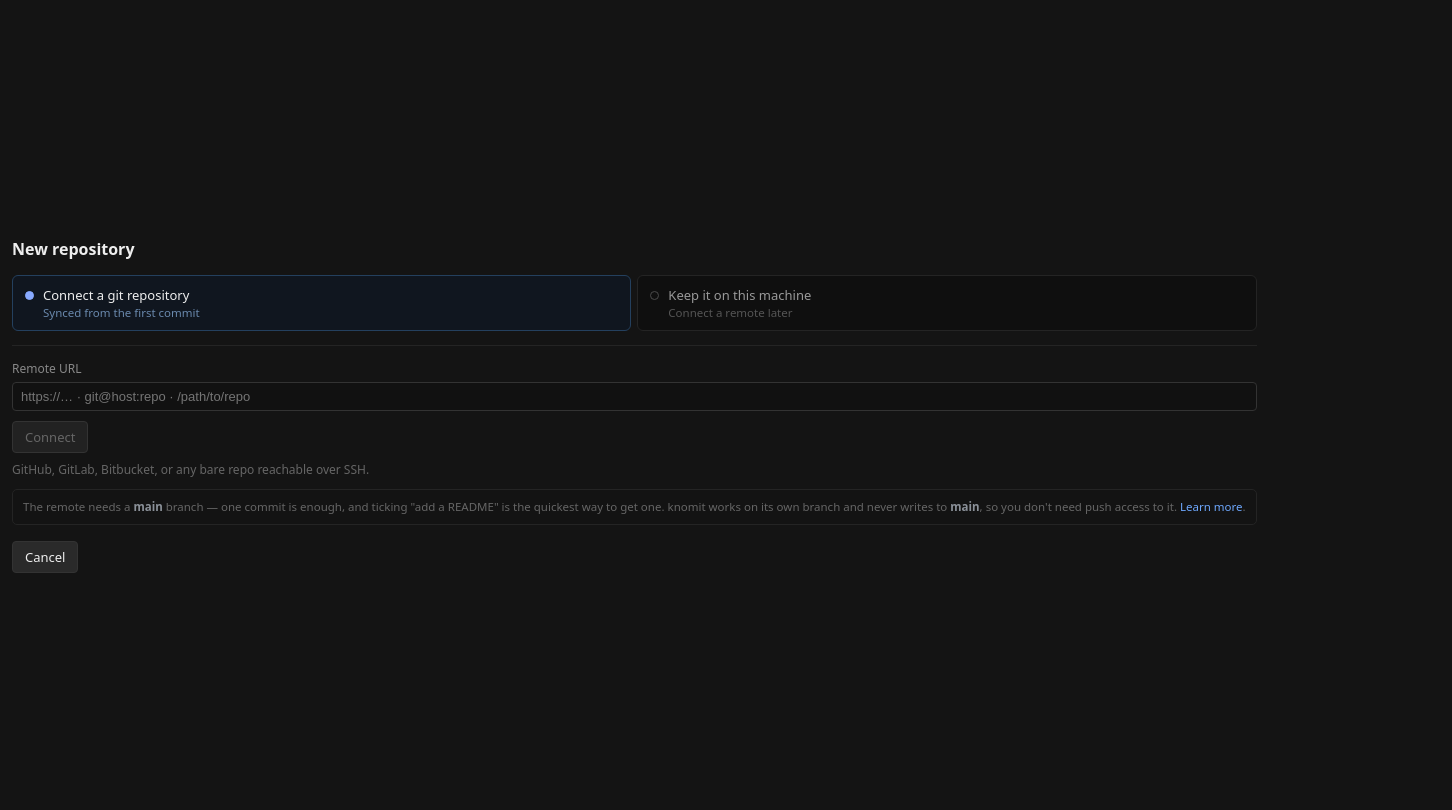
Test case: the wizard against a fake git host › acknowledges a check the reader asked for and that came back clean
In the field with test id "create-url": coordinates (634, 397) [12,382,1257,411], type "https://h/new.git"
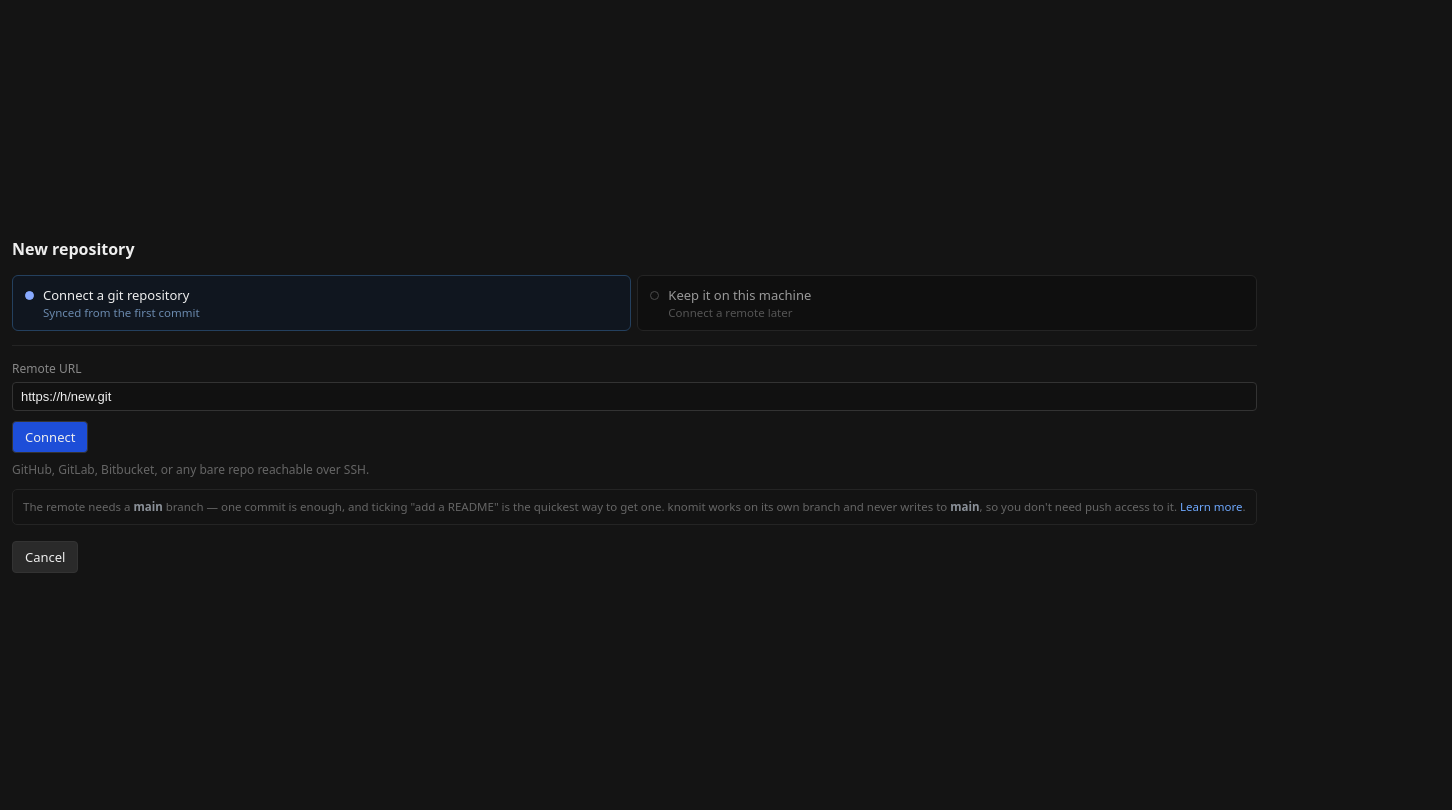
Click the button with test id "probe-button": coordinates (50, 437) [12,421,88,453]
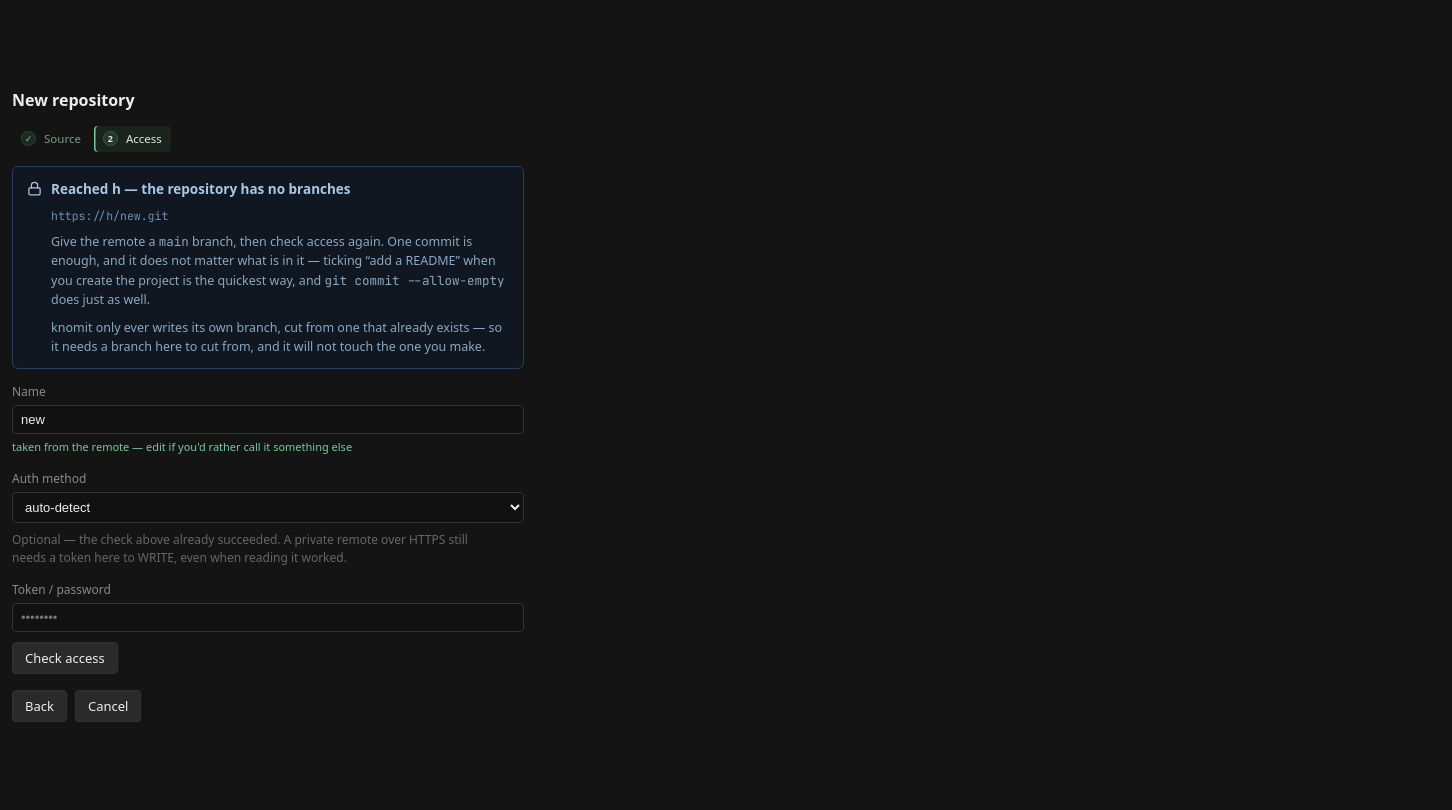
Result: the element with test id "step-access" is shown at [12,166,524,674]
Click the button with test id "recheck-button": coordinates (65, 658) [12,642,118,674]
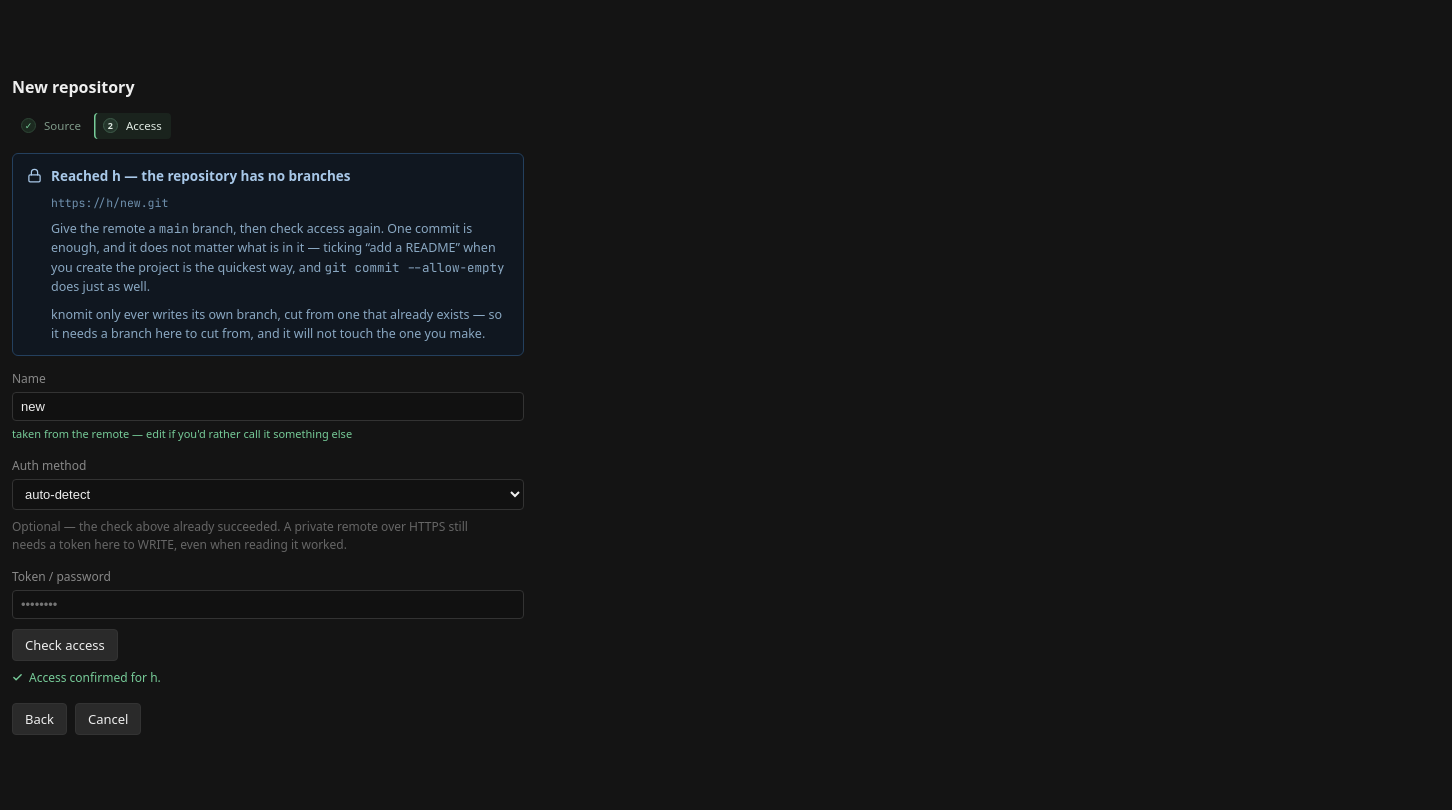
Result: the element with test id "check-confirmed" is shown at [12,669,161,686]
Result: the element with test id "check-confirmed" shows "Access confirmed" at [29,669,128,686]
